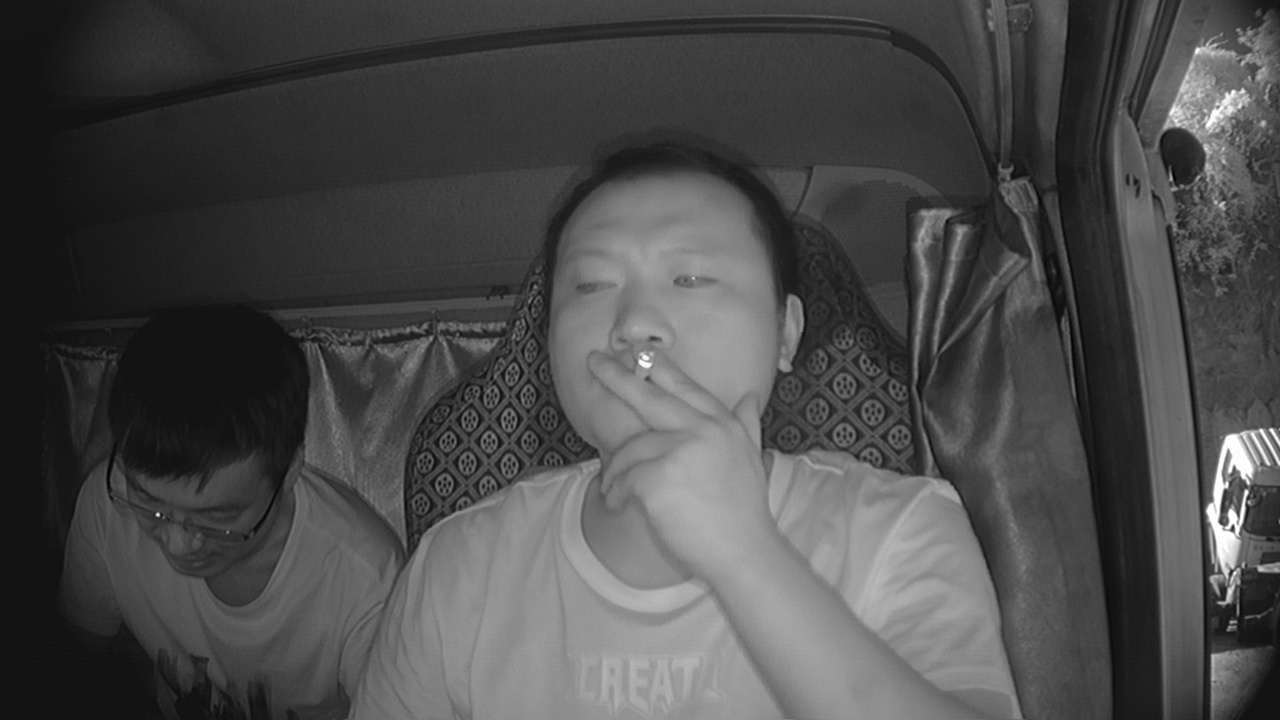hand: (590, 347, 770, 560)
